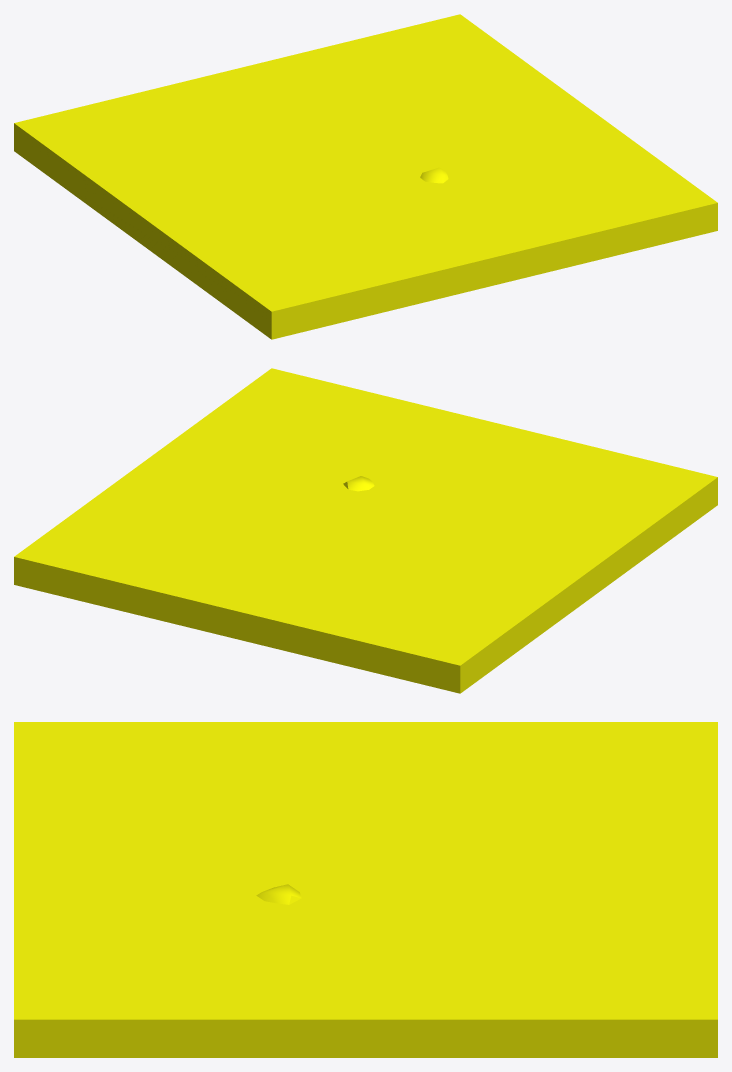
File: kaykit-floor-dirt-small-d.glb
The picture shows the model from 3 angles, top to bottom: view 1: azimuth 30°, elevation 25°; view 2: azimuth 150°, elevation 25°; view 3: azimuth 270°, elevation 25°; orthographic projection. The views are drawn at different scales.
Visible parts, largest first — view 1: floor_dirt_small_D; view 2: floor_dirt_small_D; view 3: floor_dirt_small_D.
Boxes of the visible parts, left/top/right/bottom form: floor_dirt_small_D: left=14, top=14, right=717, bottom=339; floor_dirt_small_D: left=14, top=368, right=717, bottom=693; floor_dirt_small_D: left=14, top=722, right=717, bottom=1057.
Size of the model in its own units: 2 by 0.1384 by 2.
